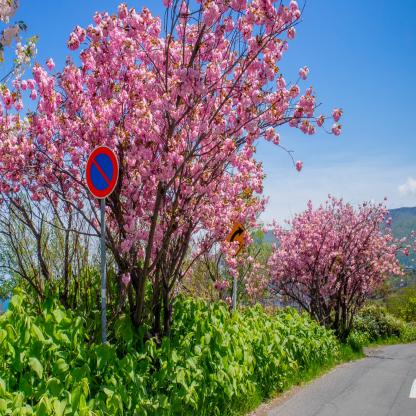YaeSakura: (0, 0, 344, 360), (265, 187, 416, 345), (200, 208, 274, 317)
